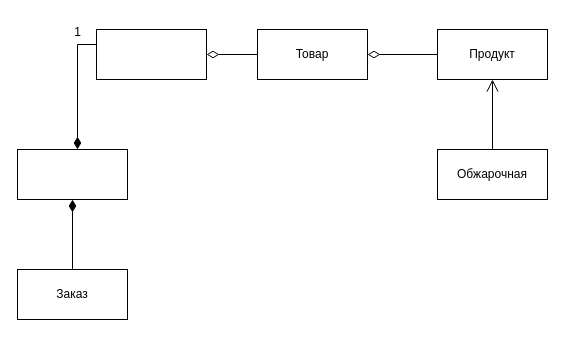
Image size: 565x337. Some labels were removed from this diagram. Each missing label, with the centre of its shape:
Каталог: (151,54)
Кофейня: (72,174)
